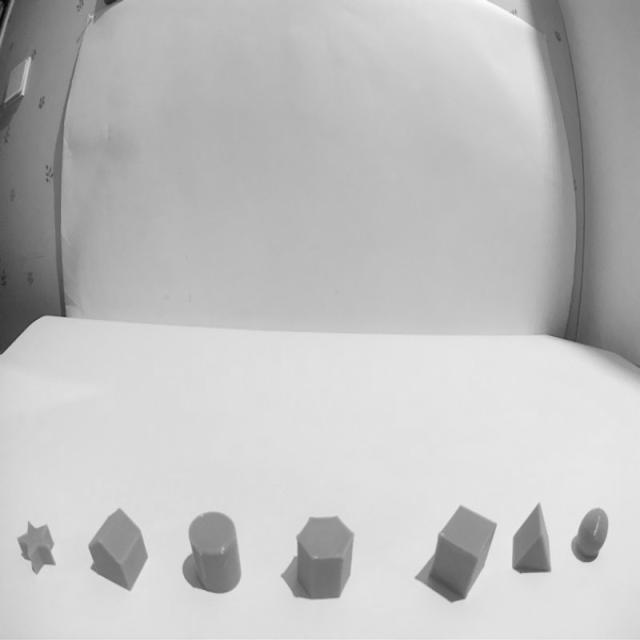ball: (573, 507, 609, 560)
cube: (431, 506, 498, 598)
cylinder: (188, 510, 242, 592)
hexagon: (295, 514, 356, 600)
home: (87, 507, 149, 591)
star: (15, 518, 59, 575)
triangle: (512, 504, 552, 574)
